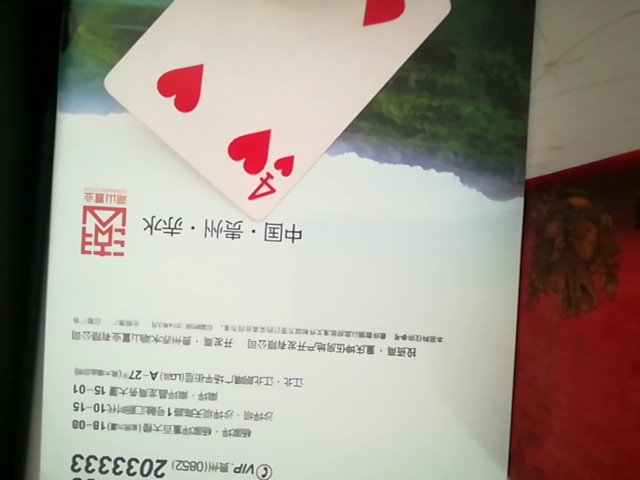hx 4: (98, 0, 463, 208)
